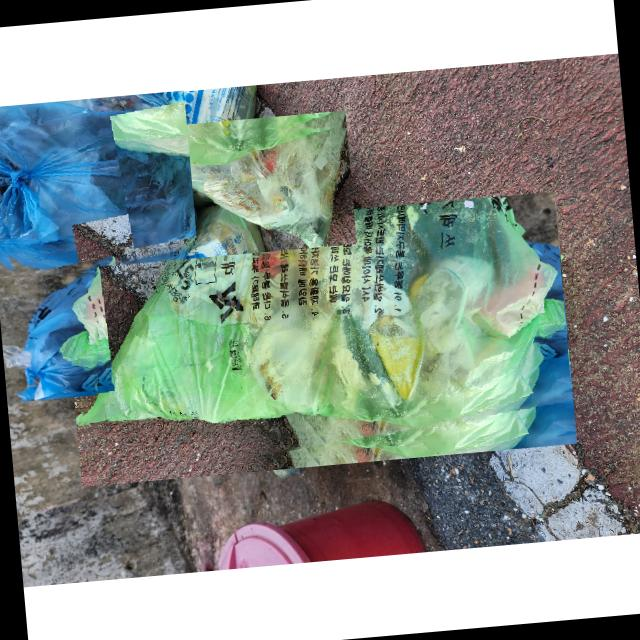general_trashbag: (81, 197, 565, 434), (109, 124, 345, 248)
other_trashbag: (0, 93, 191, 272), (1, 271, 98, 401)
